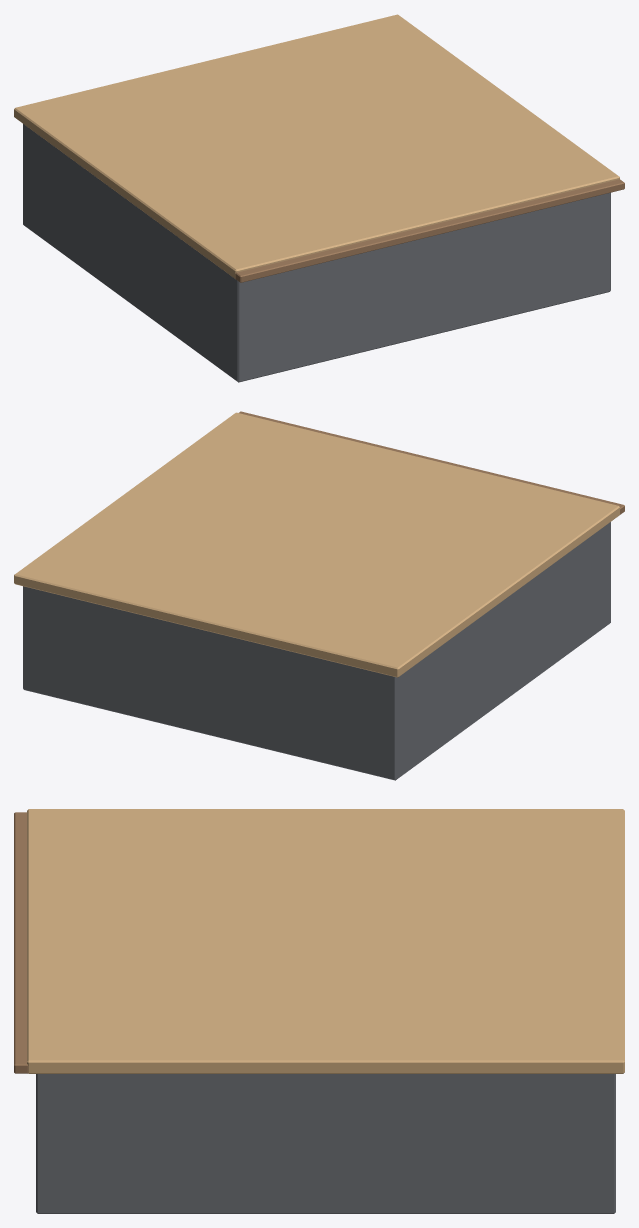
The model's file is village-hall-and-community-events-stage-platform-modul-208d60a2.glb.
The picture shows the model from 3 angles, top to bottom: view 1: azimuth 30°, elevation 25°; view 2: azimuth 150°, elevation 25°; view 3: azimuth 270°, elevation 25°; orthographic projection. The views are drawn at different scales.
Visible parts, largest first — view 1: stage-platform-module; view 2: stage-platform-module; view 3: stage-platform-module.
Part boxes in pixels (x1,y1,x2,y2): stage-platform-module: (14, 14, 624, 382); stage-platform-module: (14, 411, 624, 780); stage-platform-module: (14, 809, 624, 1213).
Bounding box in the file's own units: 2 × 0.6 × 2.04.
